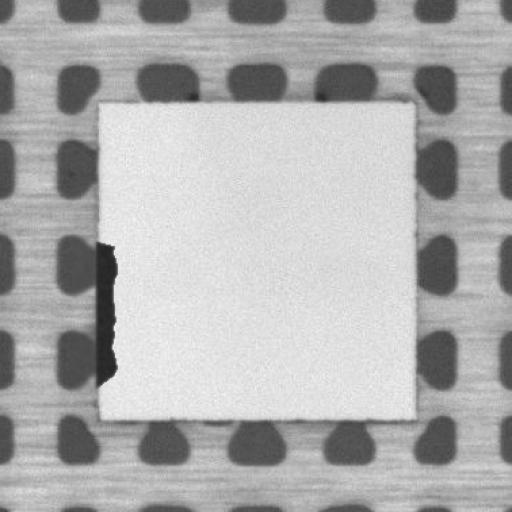DIE_BROKEN: (90, 232, 119, 388)
